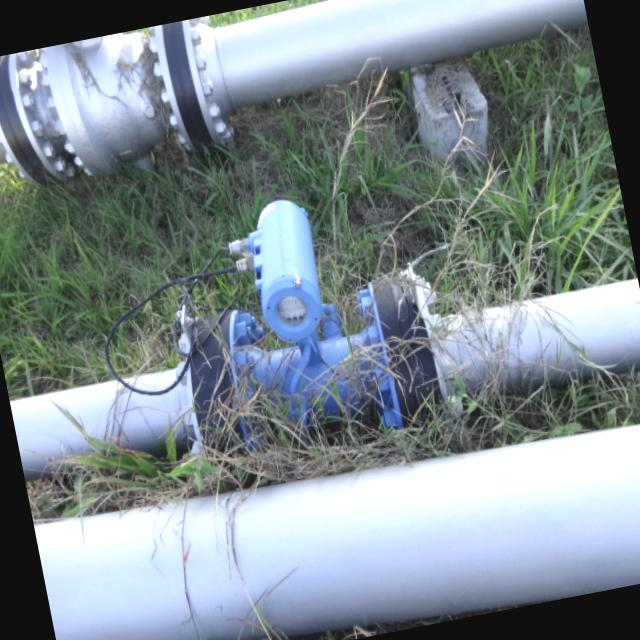gas: (5, 256, 640, 501), (31, 389, 640, 640), (0, 0, 596, 185)
